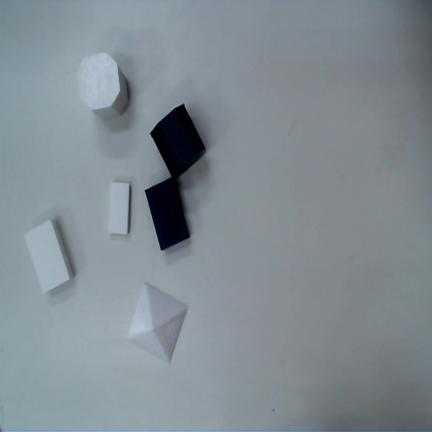Paralelepipedo: (25, 220, 73, 295), (145, 177, 190, 250), (109, 182, 131, 235)
Piramide: (128, 283, 187, 362)
Prisma_hexagonal: (150, 104, 206, 177), (77, 52, 128, 117)
